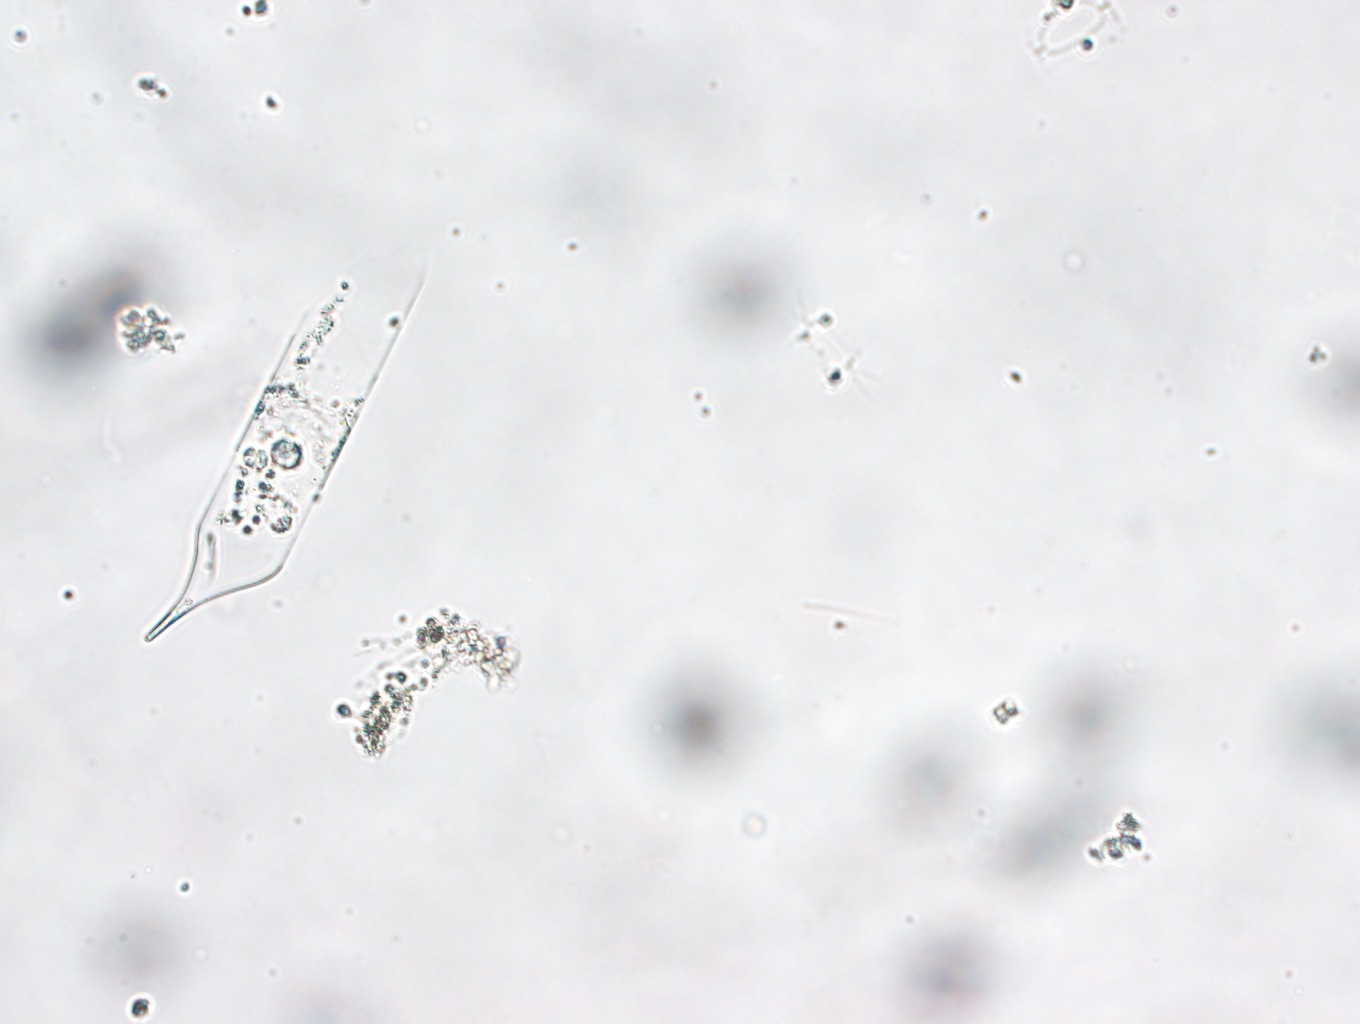biddulphia: (145, 251, 425, 642)
